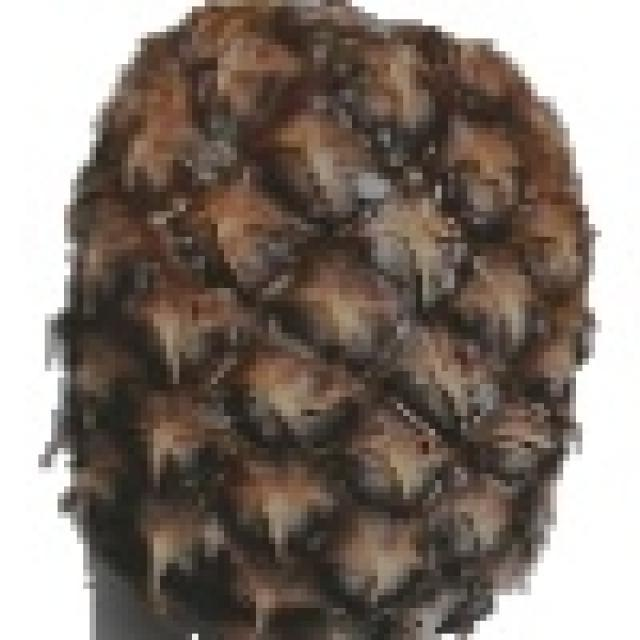pineapple: (51, 0, 594, 639)
